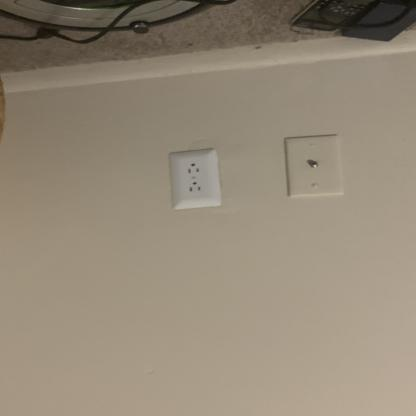OUTLET: (170, 150, 218, 210)
